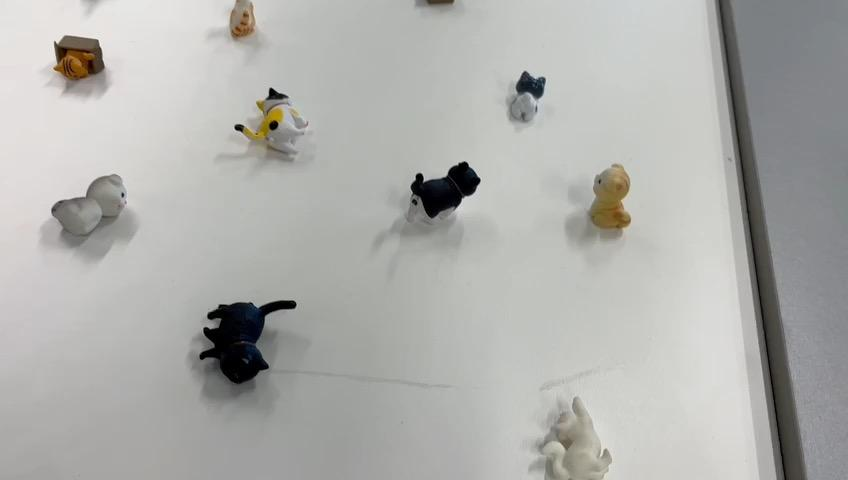pet: (189, 296, 301, 387), (538, 391, 618, 480), (404, 156, 485, 230), (47, 168, 132, 238), (233, 85, 312, 160), (587, 159, 634, 235), (45, 30, 108, 83), (507, 66, 549, 124)
